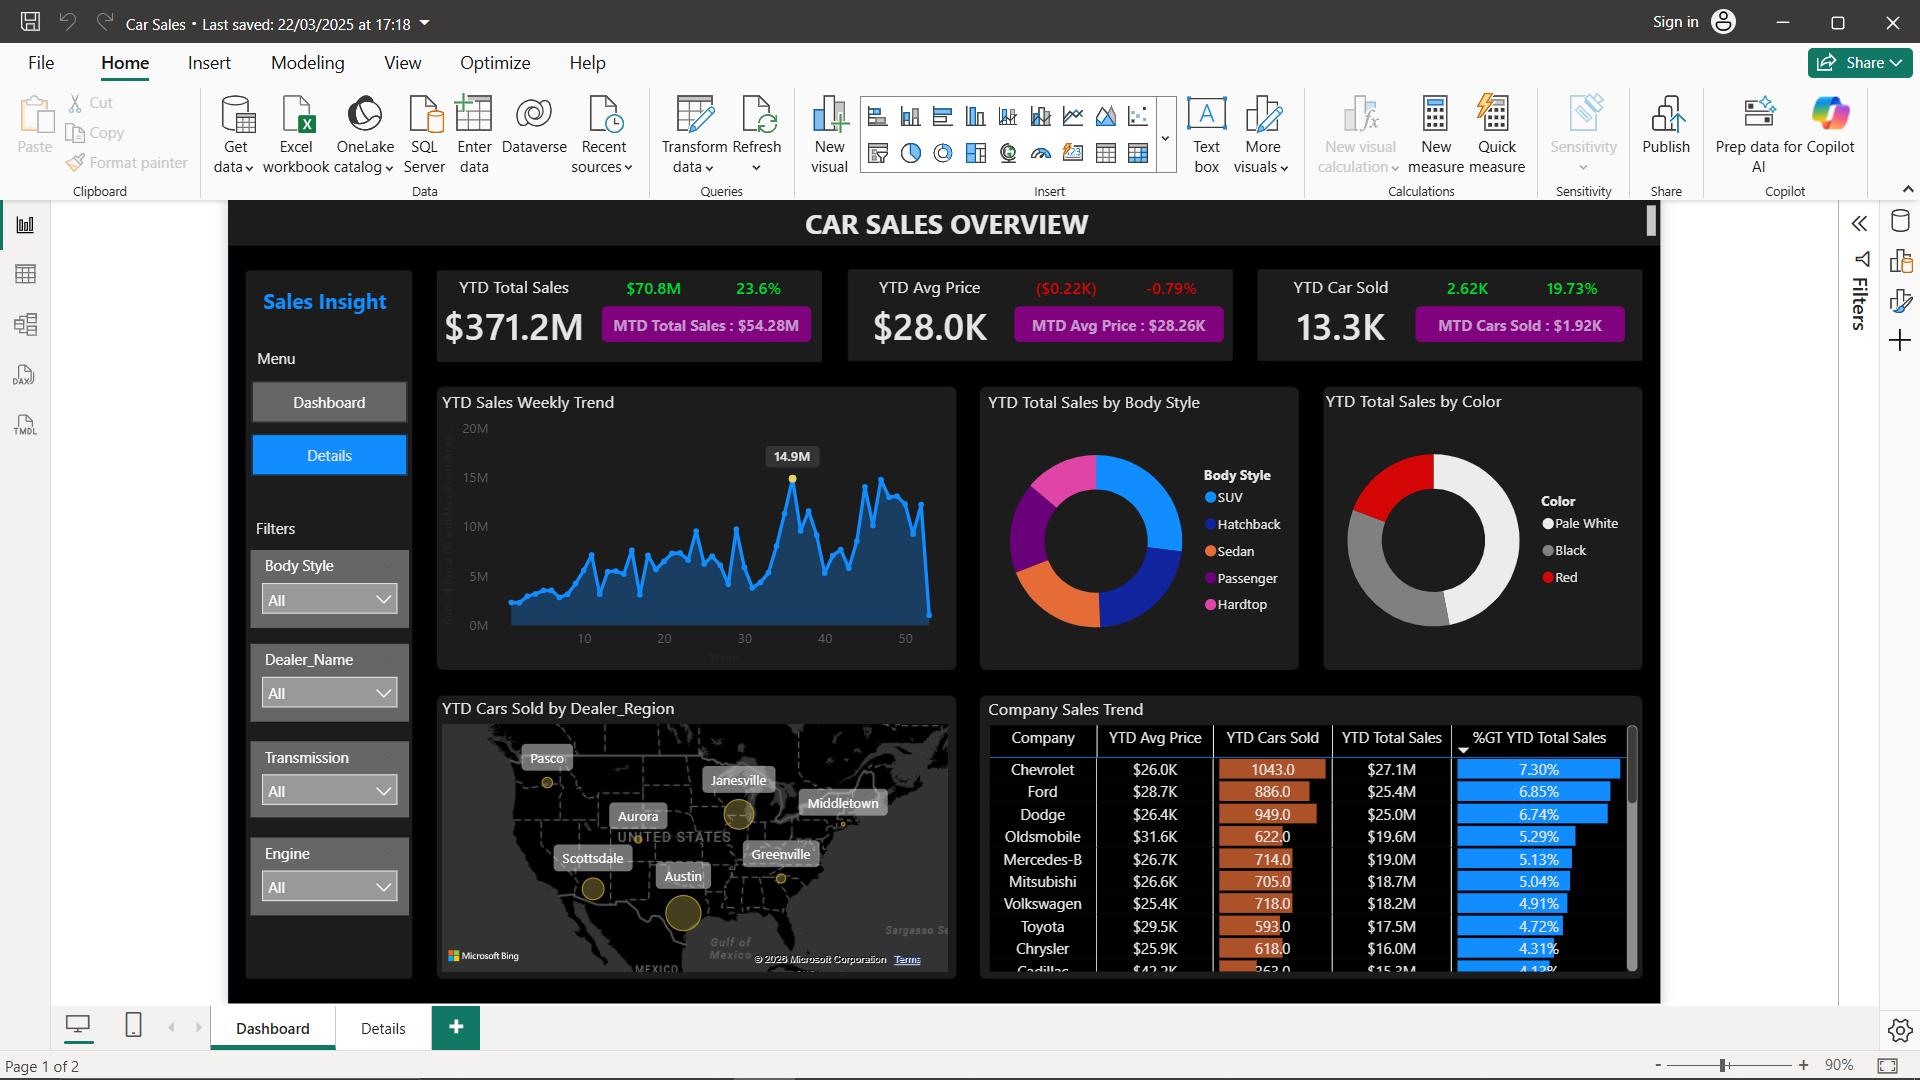

Layout of this report page (visuals, bound fields, positions):
{"tool":"powerbi","page":{"name":"Dashboard","canvas":[1280,720],"ordinal":0},"visuals":[{"type":"card","title":"YTD Total Sales","fields":{"Values":["car_data.YTD Total Sales"]},"box":[186.5,67,138.5,71.5],"z":0},{"type":"card","fields":{"Values":["car_data.Sales Difference"]},"box":[334.4,67.1,93.5,27.6],"z":1000},{"type":"card","fields":{"Values":["car_data.YoY Sales Growth"]},"box":[427.9,67.1,93.5,27.6],"z":2000},{"type":"card","fields":{"Values":["car_data.MTD KPI"]},"box":[334.4,94.7,187,32.4],"z":3000},{"type":"card","title":"YTD Avg Price","fields":{"Values":["car_data.YTD Avg Price"]},"box":[560.9,67.1,133,71.9],"z":4000},{"type":"card","fields":{"Values":["car_data.Avg Price Difference"]},"box":[702.3,67.1,93.5,27.6],"z":5000},{"type":"card","fields":{"Values":["car_data.YoY Avg Price Growth"]},"box":[795.8,67.1,93.5,27.6],"z":6000},{"type":"card","fields":{"Values":["car_data.MTD Avg Price KPI"]},"box":[702.3,94.7,187,32.4],"z":7000},{"type":"card","title":"YTD Car Sold","fields":{"Values":["car_data.YTD Cars Sold"]},"box":[927.6,67.1,133,71.9],"z":8000},{"type":"card","fields":{"Values":["car_data.Cars Sold Difference"]},"box":[1060.7,67.1,93.5,27.6],"z":9000},{"type":"card","fields":{"Values":["car_data.YoY Car Sold Growth"]},"box":[1154.2,67.1,93.5,27.6],"z":10000},{"type":"card","fields":{"Values":["car_data.MTD Cars Sold KPI"]},"box":[1060.7,94.7,187,32.4],"z":11000},{"type":"areaChart","title":"YTD Sales Weekly Trend ","fields":{"Category":["Calender Table.Week"],"Y":["Sum(car_data.Price ($))","car_data.Max Point Area Chart"]},"box":[186.5,169.7,462.3,250.1],"z":12000},{"type":"donutChart","fields":{"Category":["car_data.Body Style"],"Y":["car_data.YTD Total Sales"]},"box":[674.8,170.2,280.4,250.5],"z":13000},{"type":"donutChart","fields":{"Category":["car_data.Color"],"Y":["car_data.YTD Total Sales"]},"box":[975.9,168.6,280.3,251.2],"z":14000},{"type":"map","fields":{"Category":["car_data.Dealer_Region"],"Size":["car_data.YTD Cars Sold"]},"box":[186.5,443.3,462.3,251.2],"z":15000},{"type":"tableEx","title":"Company Sales Trend","fields":{"Values":["car_data.Company","car_data.YTD Avg Price","car_data.YTD Cars Sold","car_data.YTD Total Sales1","car_data.YTD Total Sales"]},"box":[674.4,444.4,589.6,250.1],"z":16000},{"type":"textbox","box":[12,0,1268,39.6],"z":17000},{"type":"slicer","fields":{"Values":["car_data.Body Style"]},"box":[20.4,312.8,141.4,69.5],"z":18000},{"type":"slicer","fields":{"Values":["car_data.Dealer_Name"]},"box":[20.4,396.7,141.4,69.5],"z":19000},{"type":"slicer","fields":{"Values":["car_data.Transmission"]},"box":[20.4,483,141.4,68.3],"z":20000},{"type":"slicer","fields":{"Values":["car_data.Engine"]},"box":[20.4,569.3,141.4,69.5],"z":21000},{"type":"textbox","box":[20.1,279.2,54.7,30.1],"z":22000},{"type":"pageNavigator","box":[21.2,161.9,139.6,86],"z":23000},{"type":"textbox","box":[21.2,127.3,61.4,30.1],"z":24000},{"type":"textbox","box":[12.3,72.6,148.5,38],"z":25000}]}

Visuals, with their boxes on the page's 1280x720 design canvas (x1, y1, x2, y2). These are canvas units, not pixel positions in the 1920x1080 screenshot, which may show the page scaled, cropped or inside an application window:
"YTD Total Sales" card: (186,67,325,138)
card - car_data.Sales Difference: (334,67,428,95)
card - car_data.YoY Sales Growth: (428,67,521,95)
card - car_data.MTD KPI: (334,95,521,127)
"YTD Avg Price" card: (561,67,694,139)
card - car_data.Avg Price Difference: (702,67,796,95)
card - car_data.YoY Avg Price Growth: (796,67,889,95)
card - car_data.MTD Avg Price KPI: (702,95,889,127)
"YTD Car Sold" card: (928,67,1061,139)
card - car_data.Cars Sold Difference: (1061,67,1154,95)
card - car_data.YoY Car Sold Growth: (1154,67,1248,95)
card - car_data.MTD Cars Sold KPI: (1061,95,1248,127)
"YTD Sales Weekly Trend " areaChart: (186,170,649,420)
donutChart - car_data.Body Style x car_data.YTD Total Sales: (675,170,955,421)
donutChart - car_data.Color x car_data.YTD Total Sales: (976,169,1256,420)
map - car_data.Dealer_Region x car_data.YTD Cars Sold: (186,443,649,694)
"Company Sales Trend" tableEx: (674,444,1264,694)
textbox: (12,0,1280,40)
slicer - car_data.Body Style: (20,313,162,382)
slicer - car_data.Dealer_Name: (20,397,162,466)
slicer - car_data.Transmission: (20,483,162,551)
slicer - car_data.Engine: (20,569,162,639)
textbox: (20,279,75,309)
pageNavigator: (21,162,161,248)
textbox: (21,127,83,157)
textbox: (12,73,161,111)
